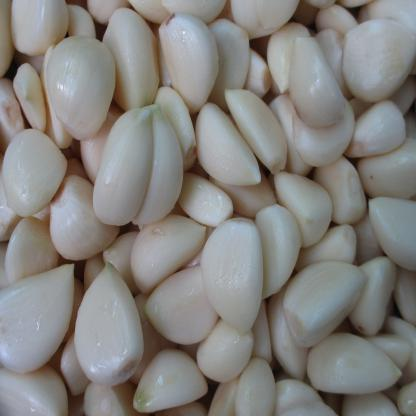garlic: (40, 32, 124, 138), (194, 216, 268, 324), (112, 113, 183, 224), (100, 5, 172, 114), (78, 260, 138, 384), (281, 262, 366, 346), (49, 167, 122, 264), (0, 271, 71, 370), (298, 332, 402, 394), (161, 12, 217, 114), (138, 340, 210, 416), (342, 23, 415, 97), (197, 101, 254, 194), (251, 202, 310, 288), (287, 40, 348, 122), (231, 89, 282, 181), (5, 130, 63, 210), (150, 272, 218, 340), (372, 184, 416, 288), (276, 172, 335, 242), (292, 110, 352, 171), (350, 102, 415, 158), (322, 156, 370, 230), (213, 22, 263, 92), (5, 217, 59, 280), (191, 329, 252, 381), (10, 0, 72, 50)
